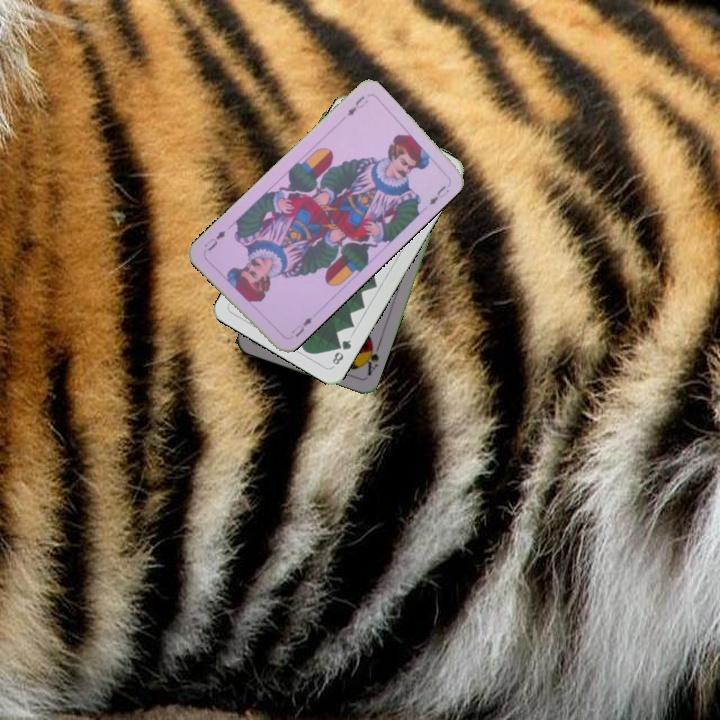EU: (343, 92, 371, 118), (287, 313, 314, 339)
G8: (328, 336, 354, 368)
SA: (359, 339, 382, 378)
